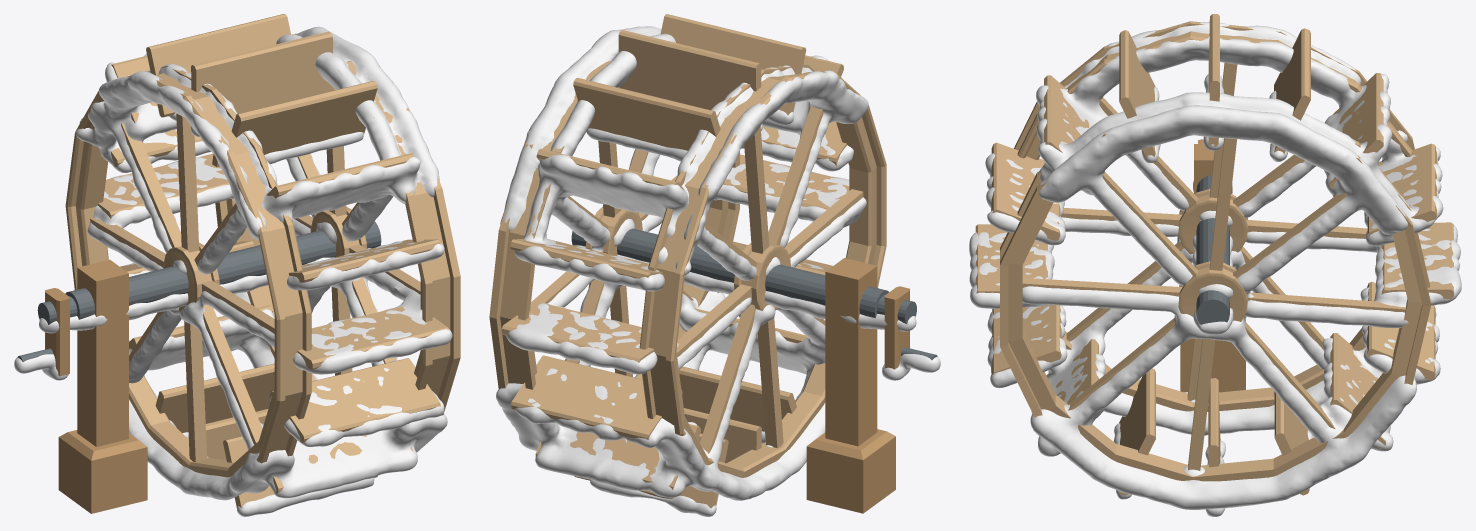
File: Water Mill SNOW.fbx
The picture shows the model from 3 angles, left to right: view 1: azimuth 30°, elevation 25°; view 2: azimuth 150°, elevation 25°; view 3: azimuth 270°, elevation 25°; orthographic projection.
Parts seen in each view (by area): view 1: Cube, SnowBall.001, Cube.002, SnowBall.002; view 2: Cube, SnowBall.001, Cube.002, SnowBall.002; view 3: SnowBall.001, Cube, Cube.002, SnowBall.002.
Part boxes in pixels (box(x1,y1,x2,y2)): Cube: box(65, 14, 460, 507); SnowBall.001: box(76, 26, 452, 516); Cube.002: box(17, 221, 381, 513); SnowBall.002: box(14, 248, 371, 380); Cube: box(489, 14, 886, 508); SnowBall.001: box(496, 26, 868, 516); Cube.002: box(571, 228, 937, 513); SnowBall.002: box(574, 245, 940, 380); SnowBall.001: box(969, 22, 1461, 516); Cube: box(975, 14, 1453, 495); Cube.002: box(1180, 139, 1245, 392); SnowBall.002: box(1192, 181, 1233, 334).
Bounding box in the file's own units: 200 × 231 × 235.
